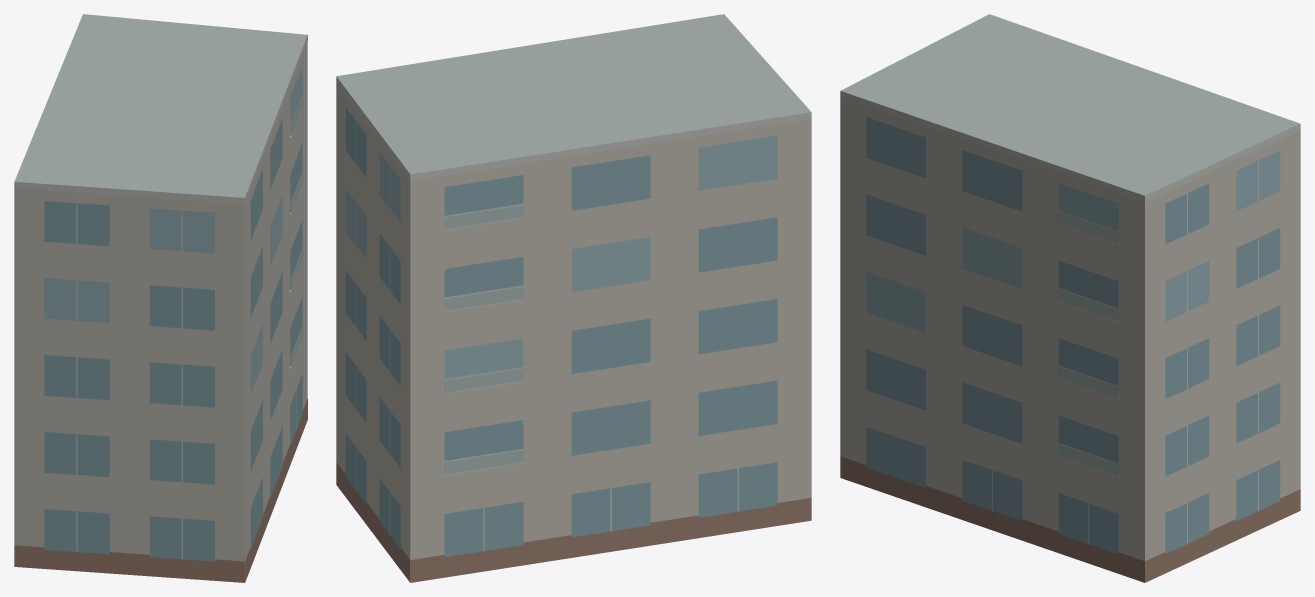
File: survey-upis-32990813.glb
3 renders of one model, left to right at view 1: azimuth 30°, elevation 25°; view 2: azimuth 150°, elevation 25°; view 3: azimuth 270°, elevation 25°, orthographic. The views are drawn at different scales.
Parts seen in each view (by area): view 1: survey-upis-32990813.tmp; view 2: survey-upis-32990813.tmp; view 3: survey-upis-32990813.tmp.
Part boxes in pixels (x1=…): survey-upis-32990813.tmp: x1=14, y1=14, x2=307, y2=582; survey-upis-32990813.tmp: x1=336, y1=14, x2=811, y2=582; survey-upis-32990813.tmp: x1=840, y1=14, x2=1300, y2=582.
Bounding box in the file's own units: 14.97 × 14.85 × 16.01.
